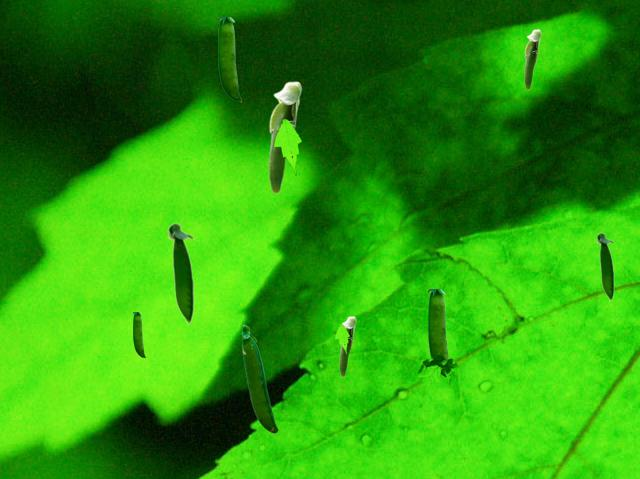pea: (241, 324, 277, 432), (268, 81, 301, 193), (167, 222, 193, 325), (218, 17, 240, 101), (428, 289, 449, 377), (596, 232, 613, 301), (524, 29, 540, 89), (339, 316, 355, 376), (133, 312, 144, 357)
